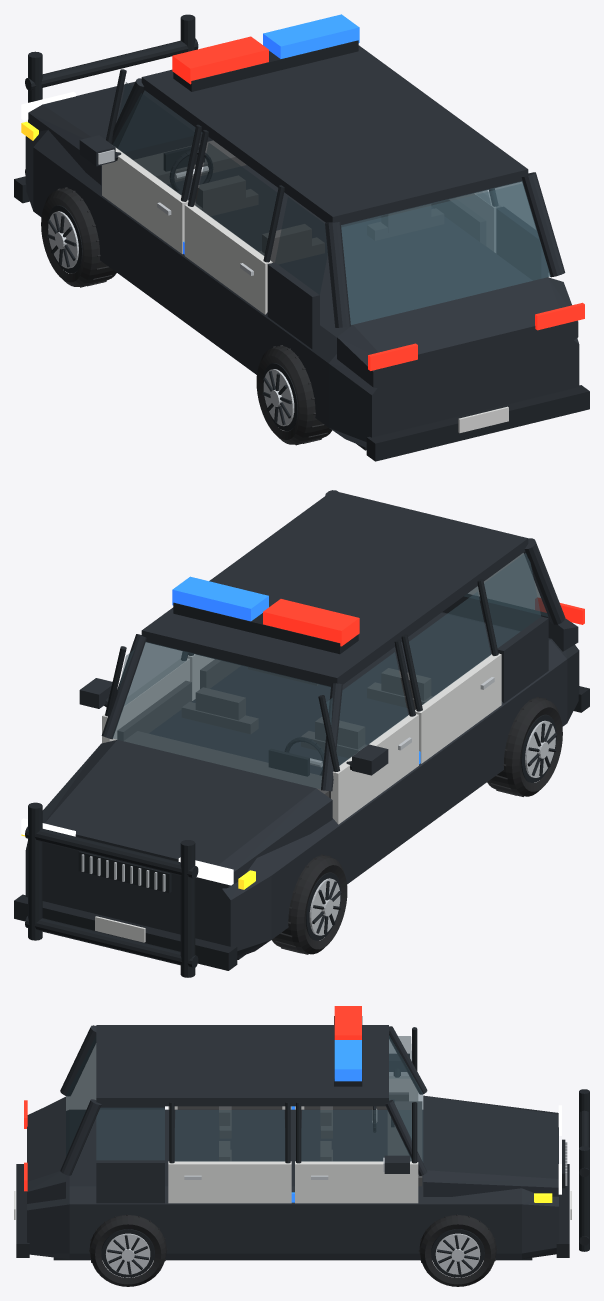
Rendered from police_suv.glb.
The picture shows the model from 3 angles, top to bottom: view 1: azimuth 30°, elevation 25°; view 2: azimuth 150°, elevation 25°; view 3: azimuth 270°, elevation 25°; orthographic projection. The views are drawn at different scales.
Visible parts, largest first — view 1: Body, Door_Hatch, Door_FL, Door_RL, Wheel_RL, Wheel_FL, Door_RR; view 2: Body, Door_RL, Door_FL, Door_FR, Wheel_FL, Wheel_RL, Door_Hatch, Door_RR; view 3: Body, Door_RR, Door_FR, Wheel_FR, Wheel_RR, Door_FL, Door_Hatch, Door_RL.
Boxes of the visible parts, box(x1,y1,x2,y2) form: Body: box(14, 14, 589, 461); Door_Hatch: box(341, 183, 549, 324); Door_FL: box(79, 69, 201, 254); Door_RL: box(184, 130, 284, 314); Wheel_RL: box(256, 345, 332, 445); Wheel_FL: box(41, 187, 116, 287); Door_RR: box(431, 188, 496, 252); Body: box(14, 490, 589, 977); Door_RL: box(401, 579, 501, 763); Door_FL: box(318, 639, 418, 824); Door_FR: box(79, 642, 191, 743); Wheel_FL: box(272, 854, 347, 954); Wheel_RL: box(487, 696, 562, 796); Door_Hatch: box(464, 553, 548, 616); Door_RR: box(187, 653, 240, 700); Body: box(14, 1006, 589, 1260); Door_RR: box(168, 1102, 291, 1203); Door_FR: box(295, 1102, 418, 1203); Wheel_FR: box(418, 1214, 497, 1286); Wheel_RR: box(89, 1214, 167, 1286); Door_FL: box(295, 1027, 418, 1109); Door_Hatch: box(66, 1038, 95, 1155); Door_RL: box(168, 1106, 291, 1109).
Size of what is drawn, in the model's own units: 2.55 by 2.21 by 5.68.
